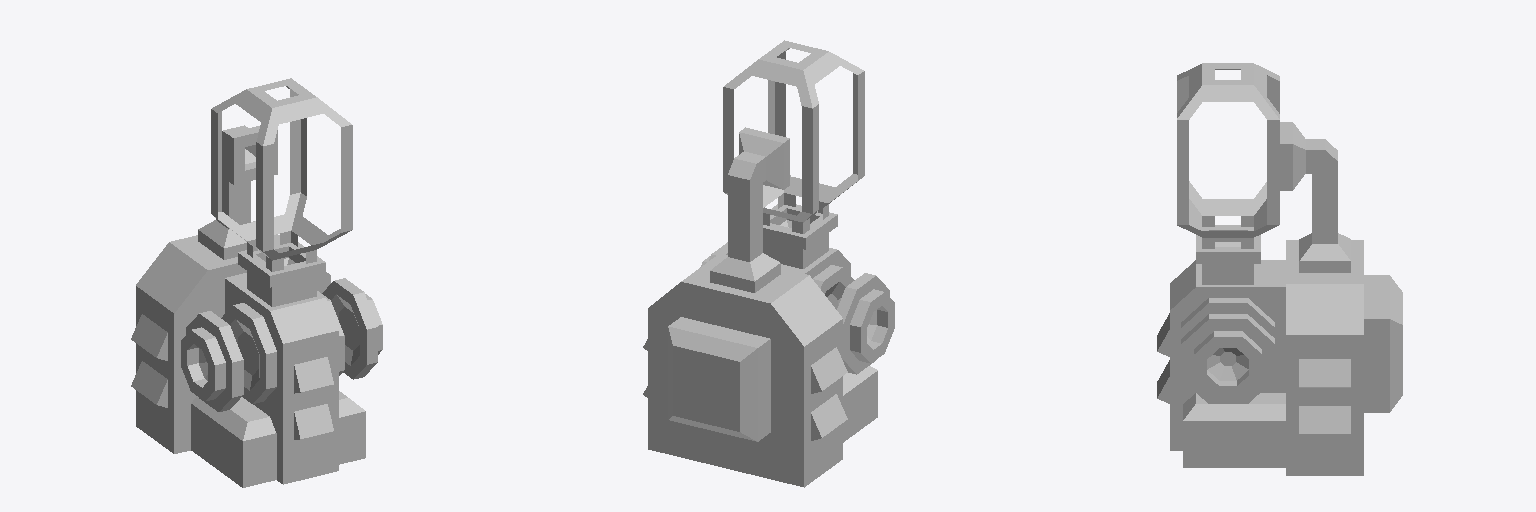
The model's file is actuator_air_body.obj.
The picture shows the model from 3 angles: view 1: azimuth 30°, elevation 25°; view 2: azimuth 150°, elevation 25°; view 3: azimuth 270°, elevation 25°; orthographic projection.
Visible parts, largest first — view 1: GALE_PRESSURIZER_BODY_Cube.024; view 2: GALE_PRESSURIZER_BODY_Cube.024; view 3: GALE_PRESSURIZER_BODY_Cube.024.
Part boxes in pixels (x1,y1,x2,y2): GALE_PRESSURIZER_BODY_Cube.024: (131, 78, 382, 487); GALE_PRESSURIZER_BODY_Cube.024: (643, 40, 894, 487); GALE_PRESSURIZER_BODY_Cube.024: (1157, 63, 1402, 475).
Bounding box in the file's own units: 1 × 1.94 × 1.19.